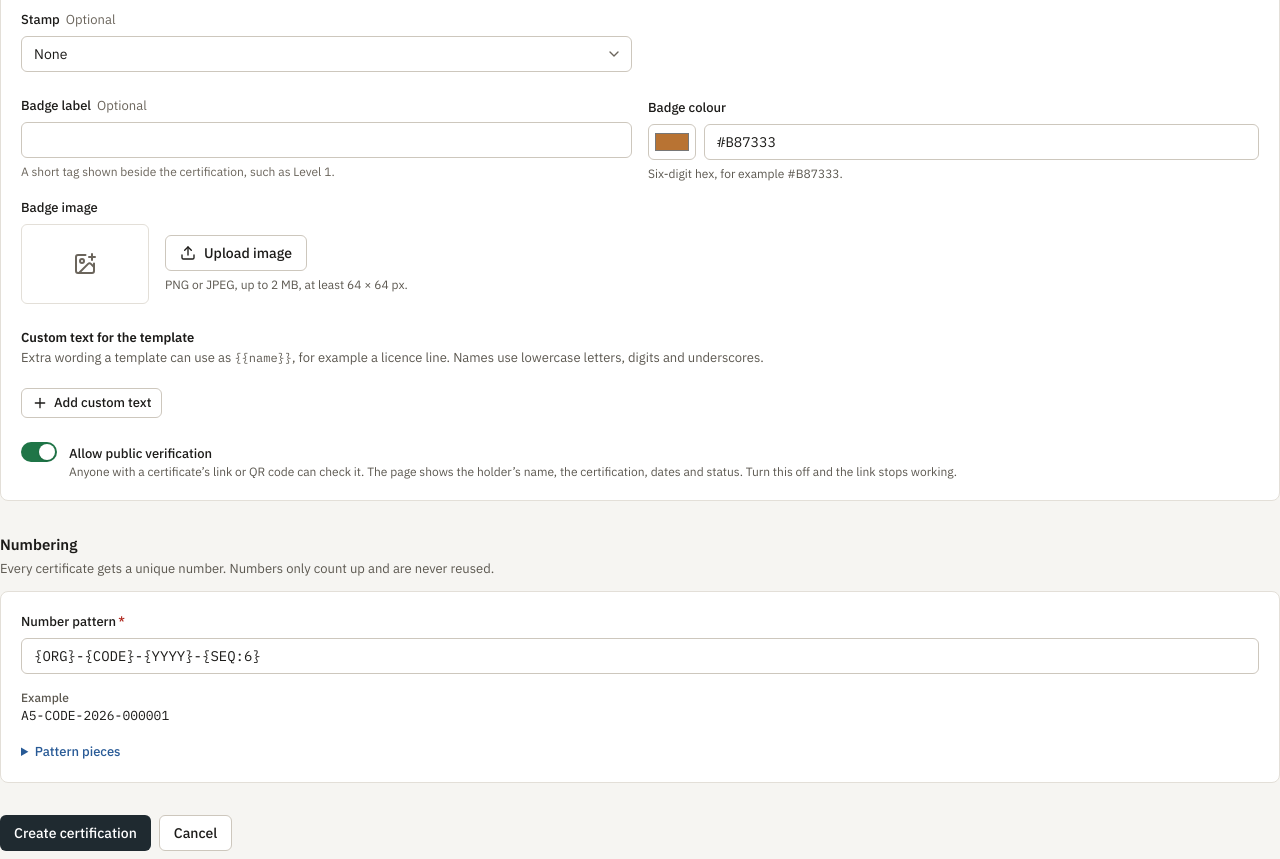
Test: CertificationEditorPage (new) › marks what is missing instead of sending an incomplete certification
(page scrolled)
Click the button "Create certification" at (75, 833), box [0,815,151,851]
(page scrolled)
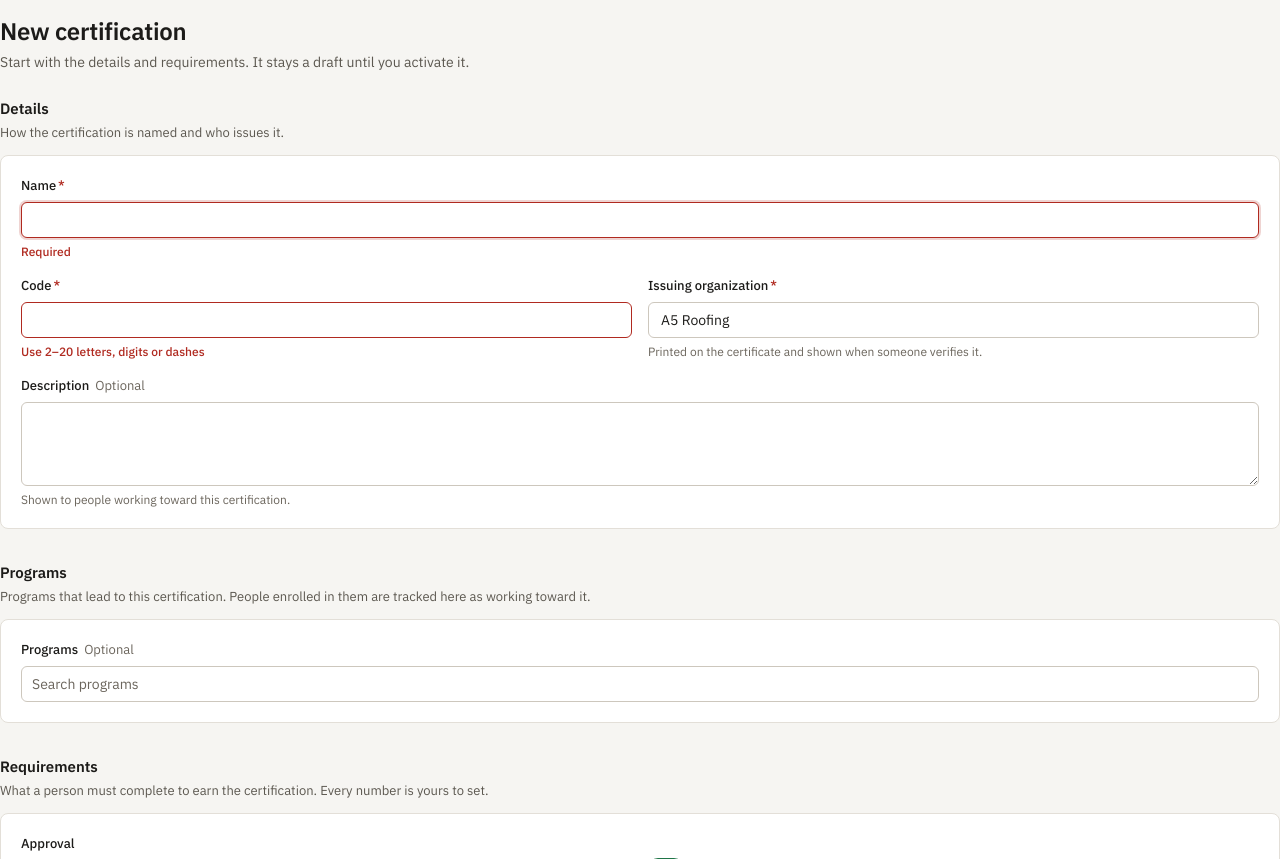
Now the field labelled "Name*" is marked as invalid, box [21,202,1259,238]
Now the field labelled "Code*" is marked as invalid, box [21,302,632,338]
